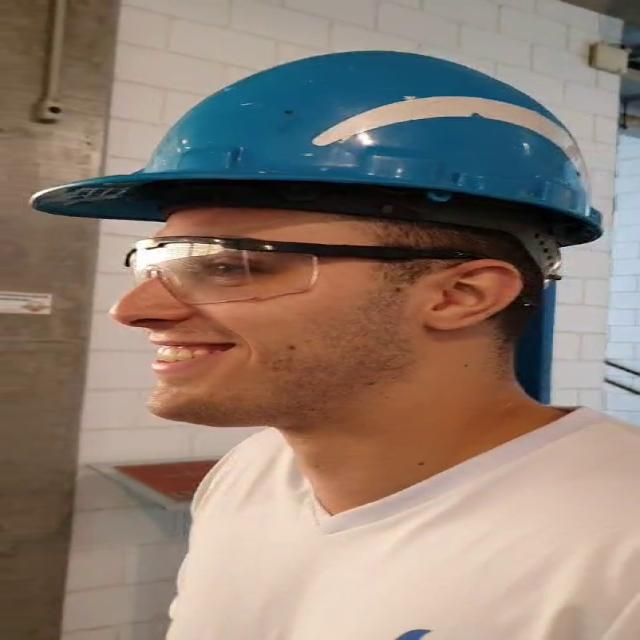oculos-epi: (125, 236, 478, 305)
